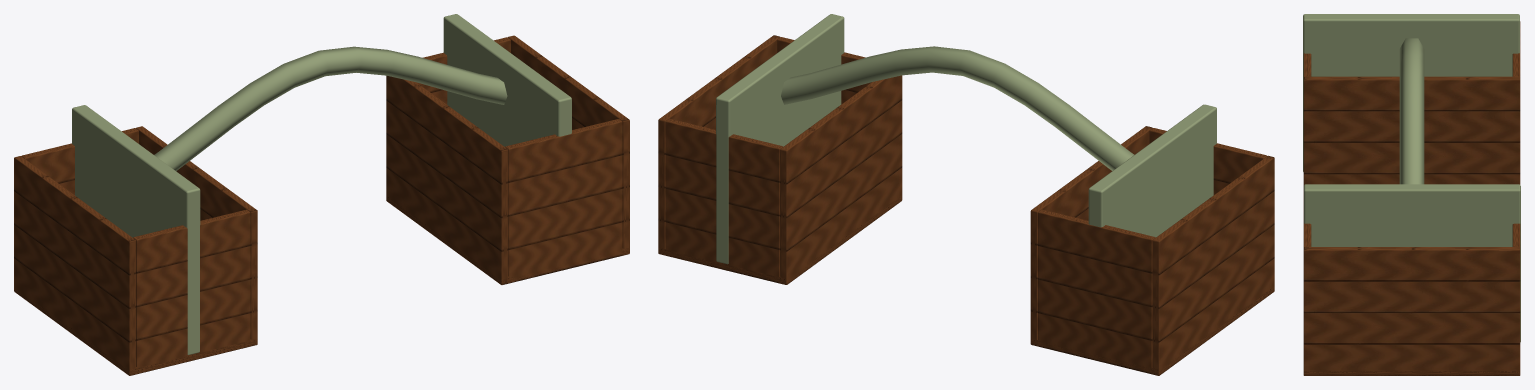
Rendered from creature-husbandry-and-transport-pannier-pair-058ca342__24018.glb.
3 views of the same model, side by side, from view 1: azimuth 30°, elevation 25°; view 2: azimuth 150°, elevation 25°; view 3: azimuth 270°, elevation 25° (orthographic). The views are drawn at different scales.
Parts seen in each view (by area): view 1: pannier-pair; view 2: pannier-pair; view 3: pannier-pair.
Part boxes in pixels (x1=…): pannier-pair: x1=14, y1=14, x2=629, y2=375; pannier-pair: x1=658, y1=14, x2=1274, y2=375; pannier-pair: x1=1303, y1=14, x2=1520, y2=375.
Bounding box in the file's own units: 1.75 × 0.7346 × 0.7025.
Materials: 2 (1 with a texture image).
